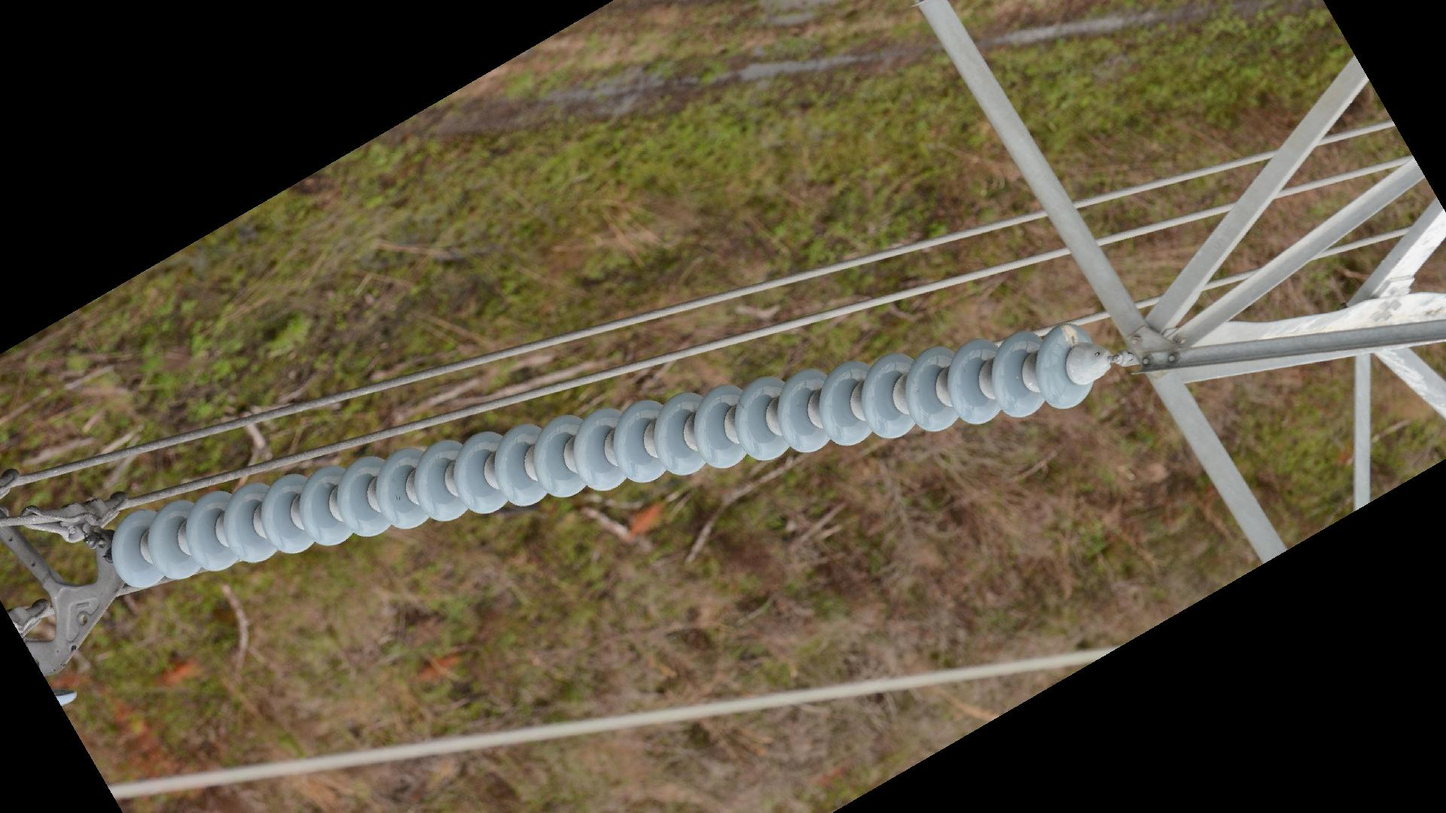insulator: (105, 316, 1100, 595)
insulator_flashover: (1059, 322, 1081, 349)
